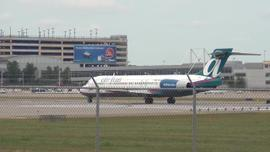aircraft: (80, 48, 233, 103)
